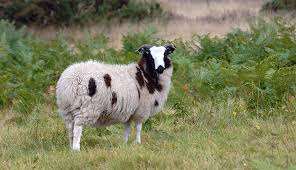koyun: (58, 42, 176, 150)
